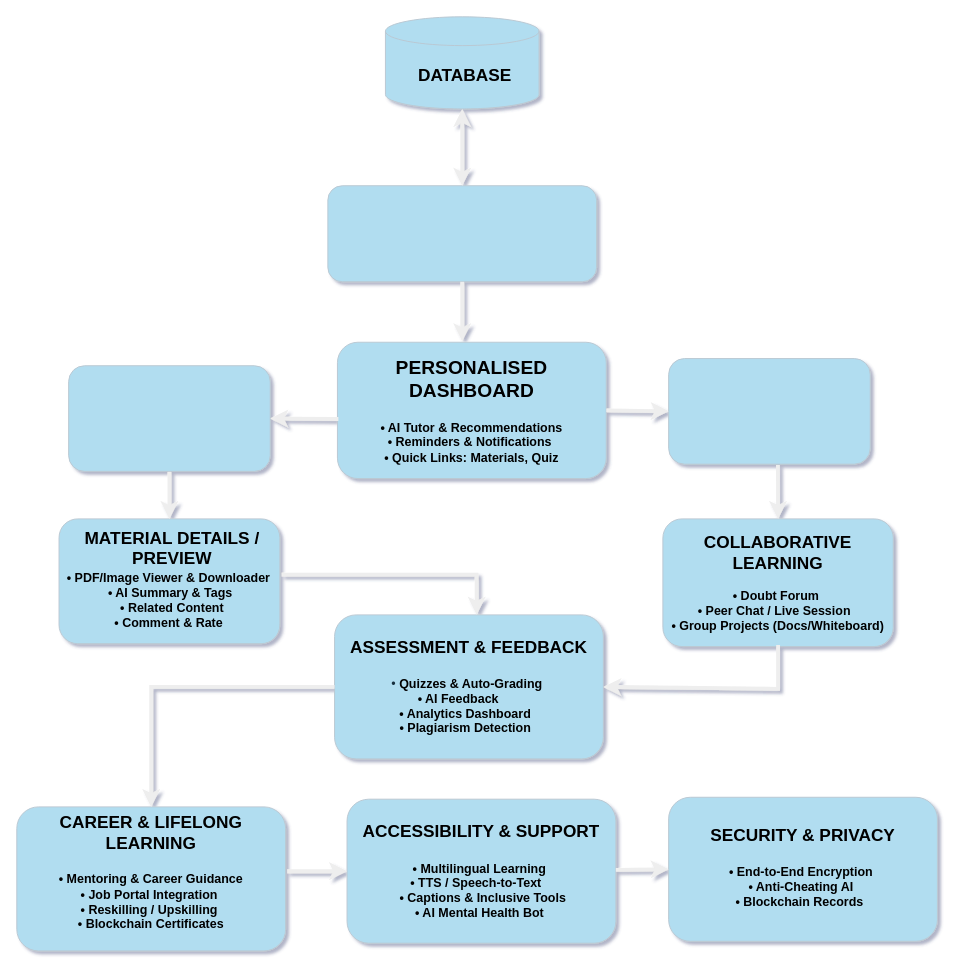
The diagram is 960 pixels wide and 973 high, and some of its shapes have lost their labels. The shapes that lost their labels are listed below. From the top down, each one's centre as x and y in pixels, then its label:
At [462,233]: "AUTHENTICATION User Registration & Login".
At [169,418]: "STUDY MATERIALS • Upload Notes • AI OCR • Multimedi a".
At [769,411]: "LEARNING PATHS • Self-paced • Microlearning • Gamification".
